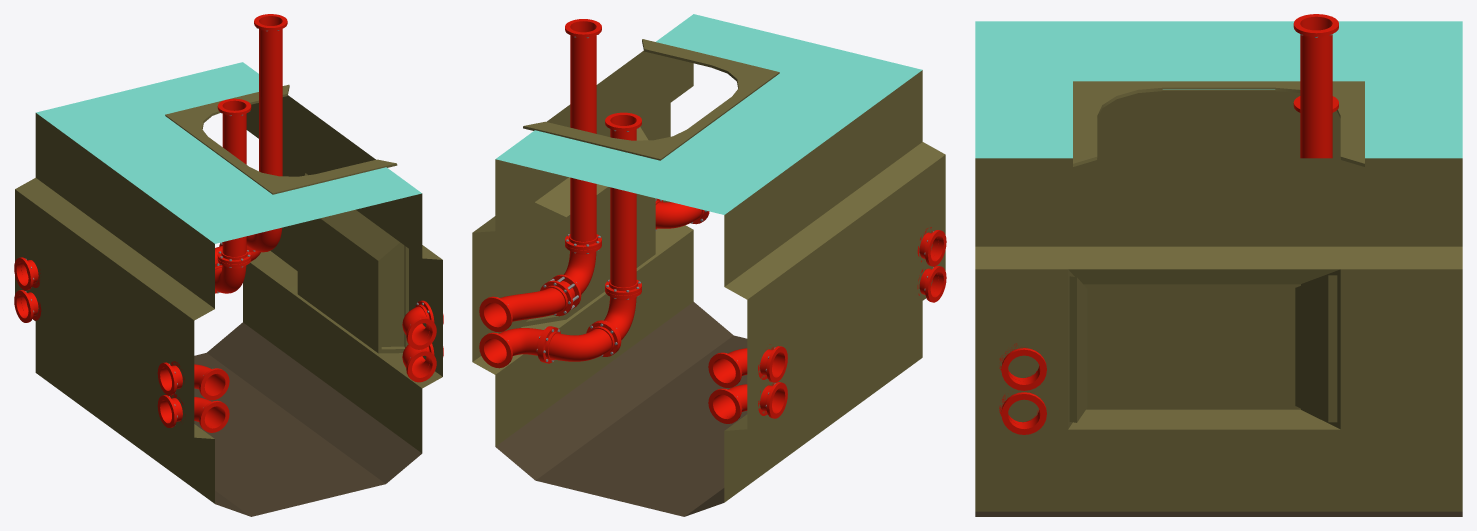
Rendered from Straight_Manhole_Up.fbx.
3 renders of one model, left to right at view 1: azimuth 30°, elevation 25°; view 2: azimuth 150°, elevation 25°; view 3: azimuth 270°, elevation 25°, orthographic. The views are drawn at different scales.
Visible parts, largest first — view 1: Straight_Manhole_Up, Pipe_200_Straight_2m.024, Straight_.008, Pipe_200_Straight_2m.020, Pipe_200_Corner.042, Pipe_200_Corner.043, Pipe_200_Corner.040, Pipe_200_Corner.041, Pipe_200_Corner.030, Pipe_200_Corner.031, Pipe_200_Corner.038, Pipe_200_Corner.039; view 2: Straight_Manhole_Up, Pipe_200_Straight_2m.024, Straight_.008, Pipe_200_Straight_2m.020, Pipe_200_Swerve_1m.005, Pipe_200_Corner.027, Pipe_200_Corner.038, Pipe_200_Corner.039, Pipe_200_Corner.002, Pipe_200_Corner.031, Pipe_200_Corner.041, Pipe_200_Corner.030 (+2 smaller); view 3: Straight_Manhole_Up, Straight_.008, Pipe_200_Straight_2m.024, Pipe_200_Corner.040, Pipe_200_Corner.041.
Part boxes in pixels (x1=…): Straight_Manhole_Up: x1=15, y1=62, x2=442, y2=516; Pipe_200_Straight_2m.024: x1=254, y1=14, x2=287, y2=176; Straight_.008: x1=165, y1=84, x2=397, y2=194; Pipe_200_Straight_2m.020: x1=217, y1=98, x2=251, y2=264; Pipe_200_Corner.042: x1=157, y1=395, x2=229, y2=432; Pipe_200_Corner.043: x1=157, y1=362, x2=229, y2=400; Pipe_200_Corner.040: x1=402, y1=306, x2=443, y2=349; Pipe_200_Corner.041: x1=402, y1=344, x2=443, y2=382; Pipe_200_Corner.030: x1=215, y1=257, x2=251, y2=293; Pipe_200_Corner.031: x1=246, y1=227, x2=282, y2=252; Pipe_200_Corner.038: x1=14, y1=257, x2=38, y2=290; Pipe_200_Corner.039: x1=14, y1=290, x2=38, y2=322; Straight_Manhole_Up: x1=472, y1=14, x2=945, y2=516; Pipe_200_Straight_2m.024: x1=565, y1=19, x2=601, y2=250; Straight_.008: x1=523, y1=39, x2=779, y2=160; Pipe_200_Straight_2m.020: x1=605, y1=112, x2=641, y2=295; Pipe_200_Swerve_1m.005: x1=479, y1=280, x2=572, y2=332; Pipe_200_Corner.027: x1=540, y1=321, x2=619, y2=363; Pipe_200_Corner.038: x1=708, y1=346, x2=787, y2=387; Pipe_200_Corner.039: x1=708, y1=382, x2=787, y2=423; Pipe_200_Corner.002: x1=479, y1=326, x2=553, y2=368; Pipe_200_Corner.031: x1=550, y1=243, x2=601, y2=309; Pipe_200_Corner.041: x1=655, y1=202, x2=709, y2=228; Pipe_200_Corner.030: x1=594, y1=288, x2=641, y2=352; Straight_Manhole_Up: x1=975, y1=21, x2=1462, y2=516; Straight_.008: x1=1073, y1=81, x2=1364, y2=166; Pipe_200_Straight_2m.024: x1=1293, y1=14, x2=1338, y2=158; Pipe_200_Corner.040: x1=1001, y1=348, x2=1046, y2=390; Pipe_200_Corner.041: x1=1001, y1=392, x2=1046, y2=434.
Bounding box in the file's own units: 2.6 × 3.4 × 3.
